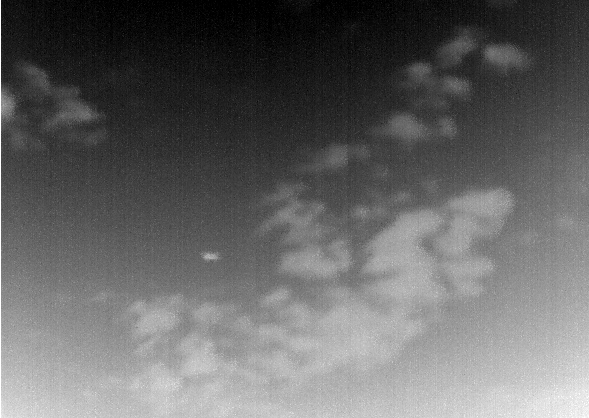dim target: (199, 250, 220, 262)
